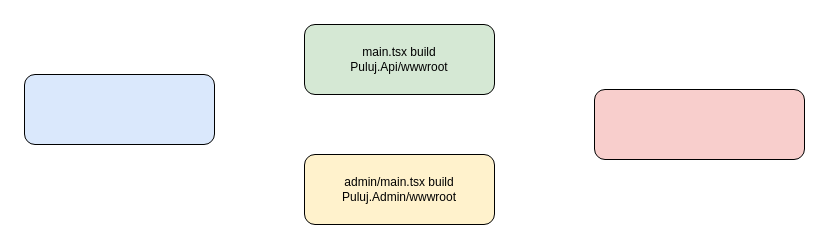
Image size: 822x242. Some labels were removed from this diagram. Here are the shapes that lost their labels. From the top down, the centre of each, then its label:
At [119,109]: "web/ shared React Vite + MapLibre".
At [699,124]: "Static hosting Api / Admin services".
